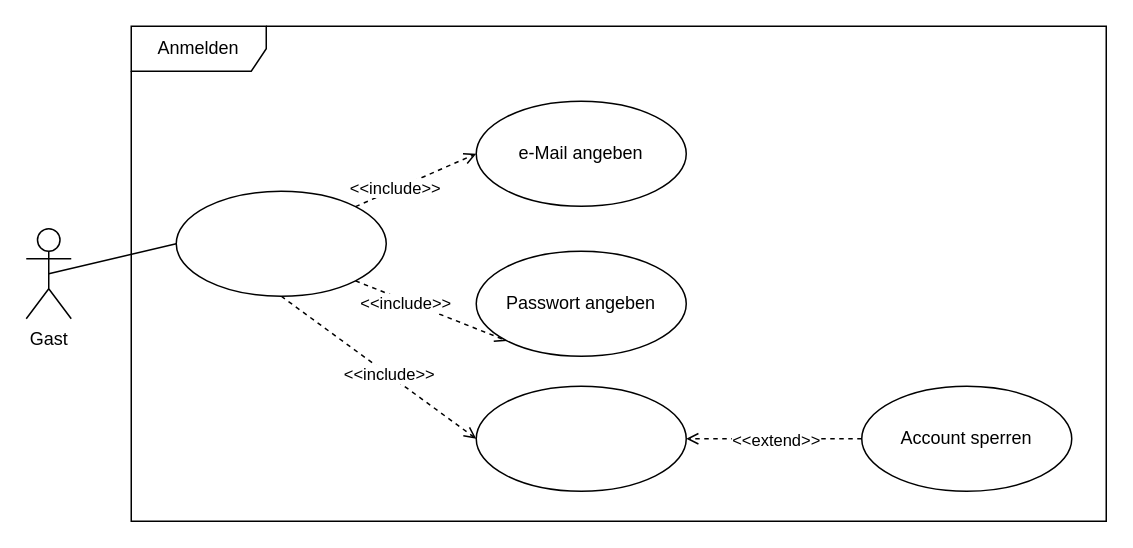
The diagram is 1133 pixels wide and 548 high, and some of its shapes have lost their labels. Each missing label, with the centre of its shape:
"Am System anmelden" belongs at point (280, 243).
"Login Daten validieren" belongs at point (580, 438).
